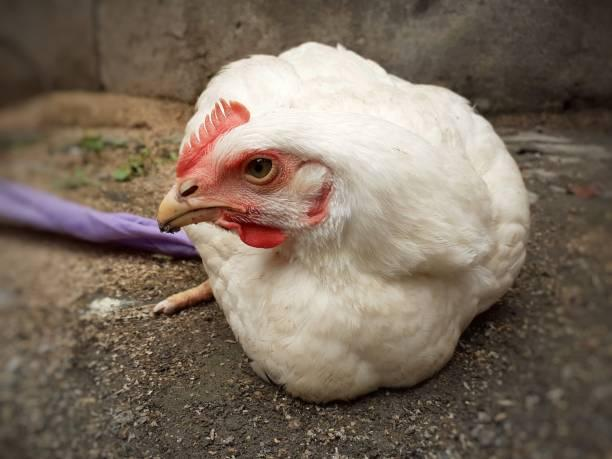AbNormal: (136, 20, 541, 408)
